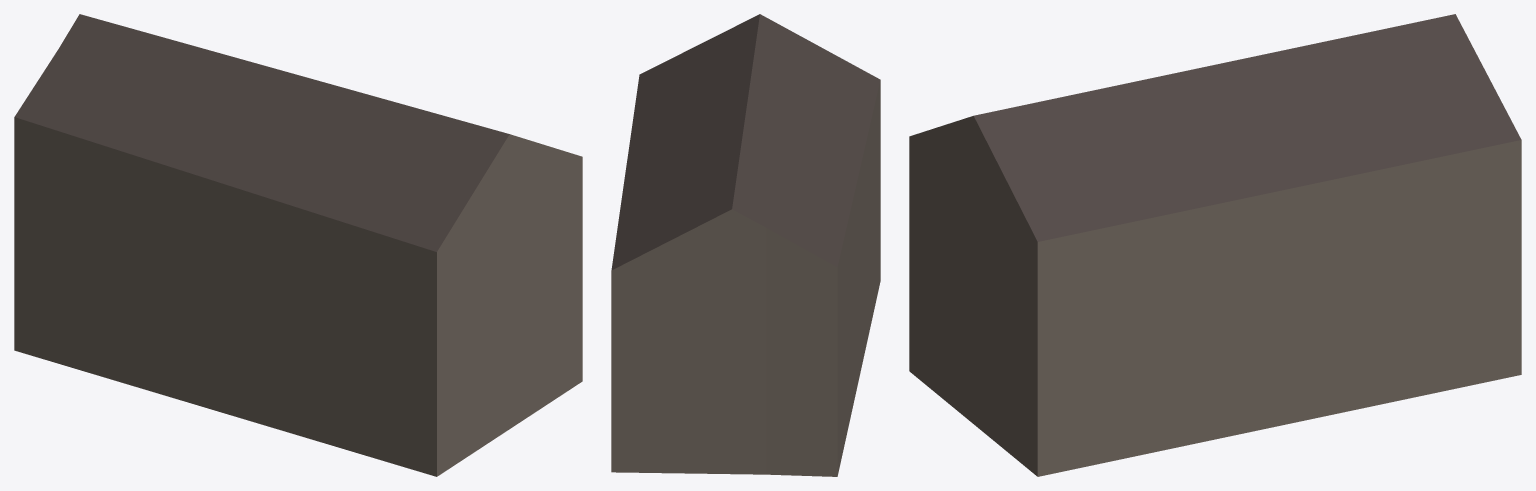
3 renders of one model, left to right at view 1: azimuth 30°, elevation 25°; view 2: azimuth 150°, elevation 25°; view 3: azimuth 270°, elevation 25°, orthographic. The views are drawn at different scales.
Parts seen in each view (by area): view 1: HP-w1512911291; view 2: HP-w1512911291; view 3: HP-w1512911291.
Part boxes in pixels (left/top/right/bottom): HP-w1512911291: left=14, top=14, right=582, bottom=476; HP-w1512911291: left=611, top=14, right=880, bottom=476; HP-w1512911291: left=909, top=14, right=1521, bottom=476.
Bounding box in the file's own units: 11.01 × 7.88 × 14.17.
